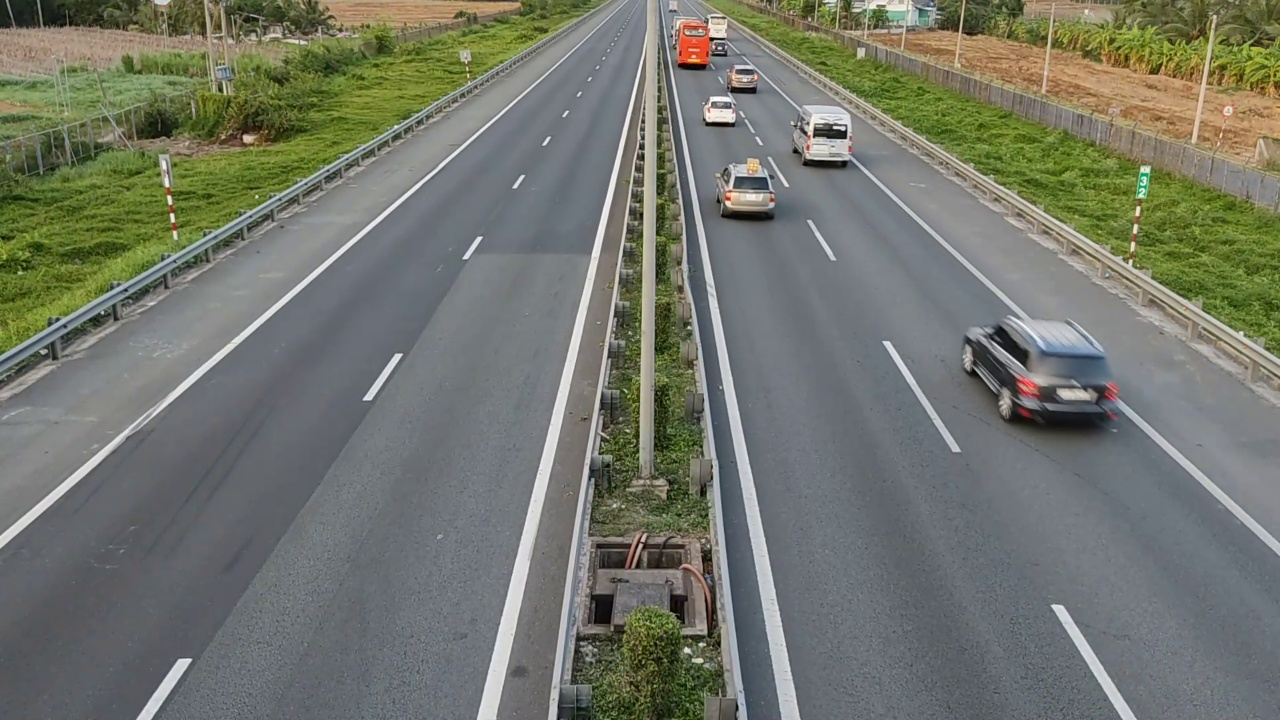car: (957, 314, 1119, 426), (789, 103, 853, 167), (714, 160, 777, 219), (702, 95, 738, 127), (727, 65, 759, 93)
